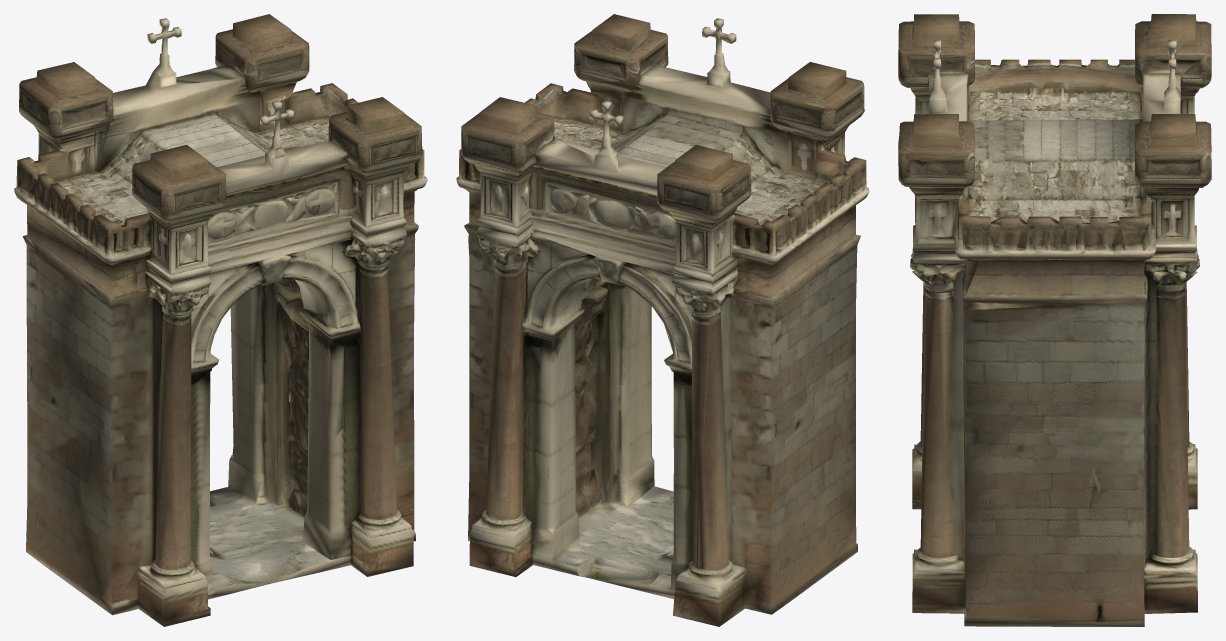
The model's file is prop-gate-arch.glb.
The picture shows the model from 3 angles, left to right: view 1: azimuth 30°, elevation 25°; view 2: azimuth 150°, elevation 25°; view 3: azimuth 270°, elevation 25°; orthographic projection. The views are drawn at different scales.
Bounding box in the file's own units: 1.34 × 1.91 × 1.07.
1 material, 1 textured.
